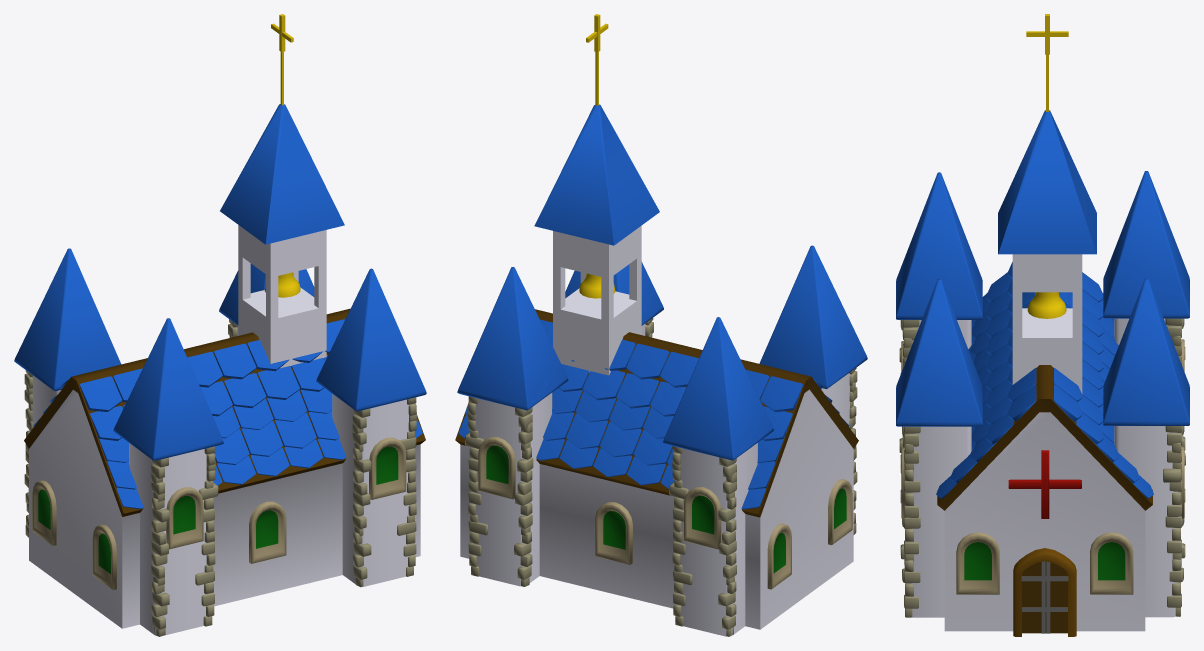
The model's file is Church_BlueTeam.glb.
3 views of the same model, side by side, from view 1: azimuth 30°, elevation 25°; view 2: azimuth 150°, elevation 25°; view 3: azimuth 270°, elevation 25° (orthographic). The views are drawn at different scales.
Visible parts, largest first — view 1: Church_BlueTeam; view 2: Church_BlueTeam; view 3: Church_BlueTeam.
Boxes of the visible parts, left/top/right/bottom form: Church_BlueTeam: left=14, top=14, right=426, bottom=636; Church_BlueTeam: left=455, top=14, right=867, bottom=636; Church_BlueTeam: left=896, top=14, right=1189, bottom=636.
Bounding box in the file's own units: 33.49 × 54.07 × 25.31.
